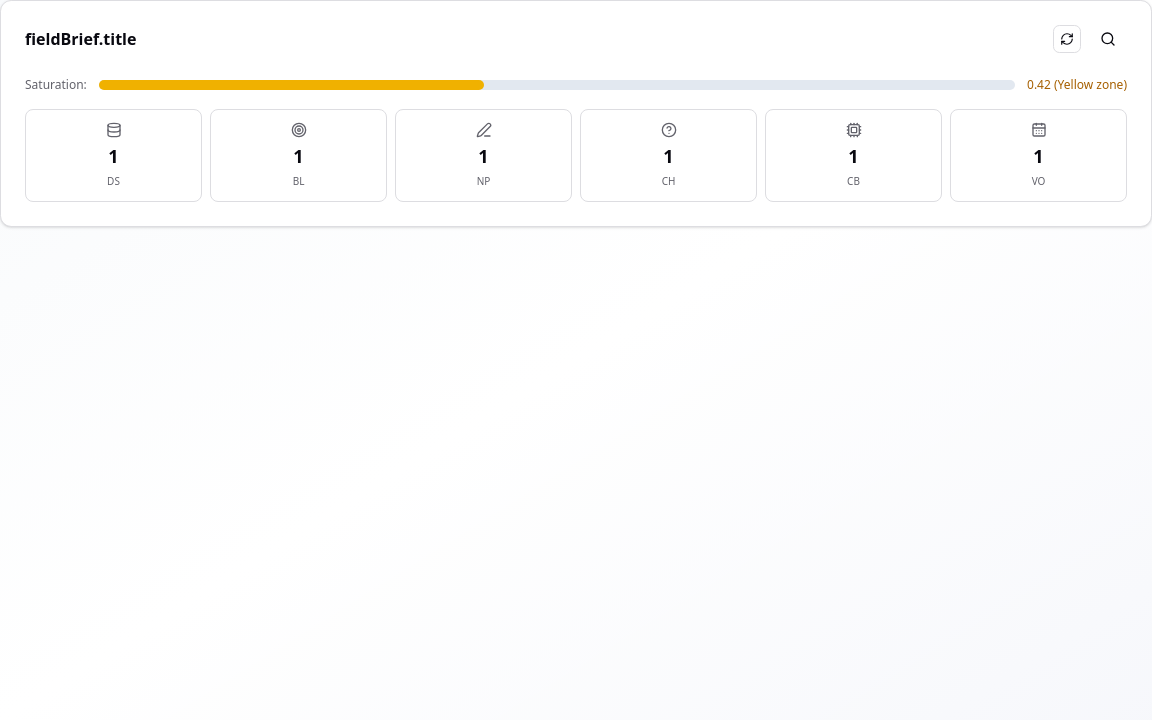
Test: FieldBriefCard › expands tile on click
What coordinates should you click on to do the following:
click the button "1 DS"
I would click on:
 (114, 156)
Its box is left=25, top=109, right=202, bottom=202.
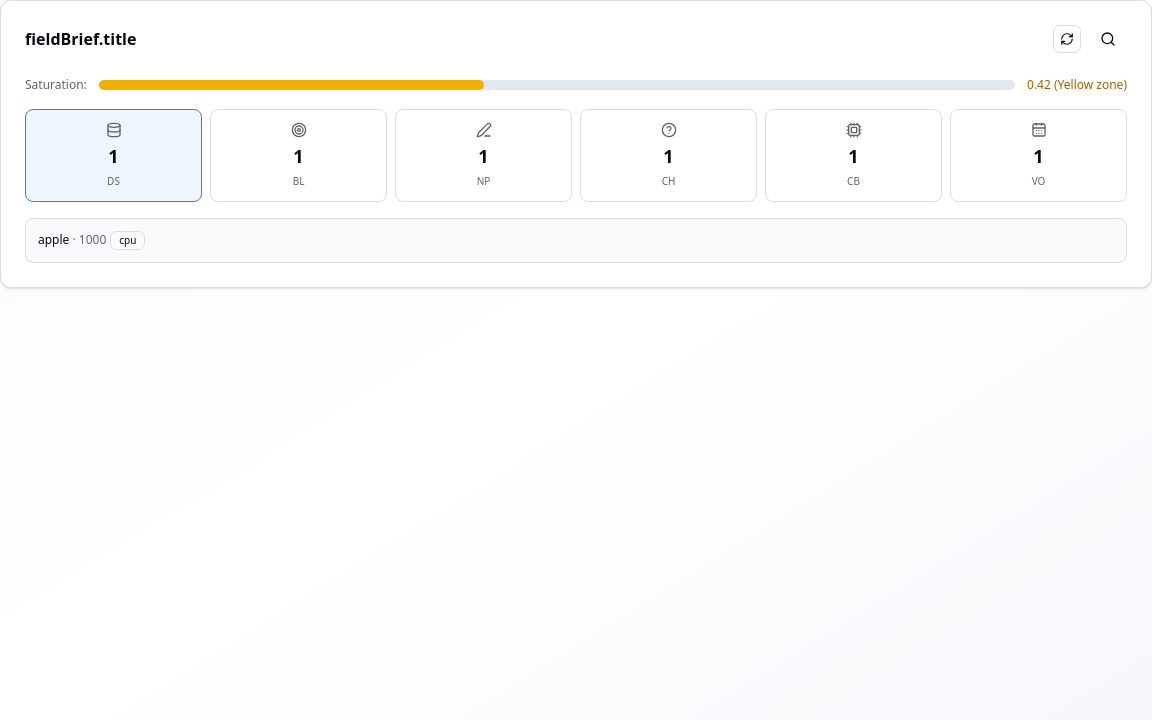
Now the text "apple" is shown, box left=38, top=231, right=69, bottom=248
